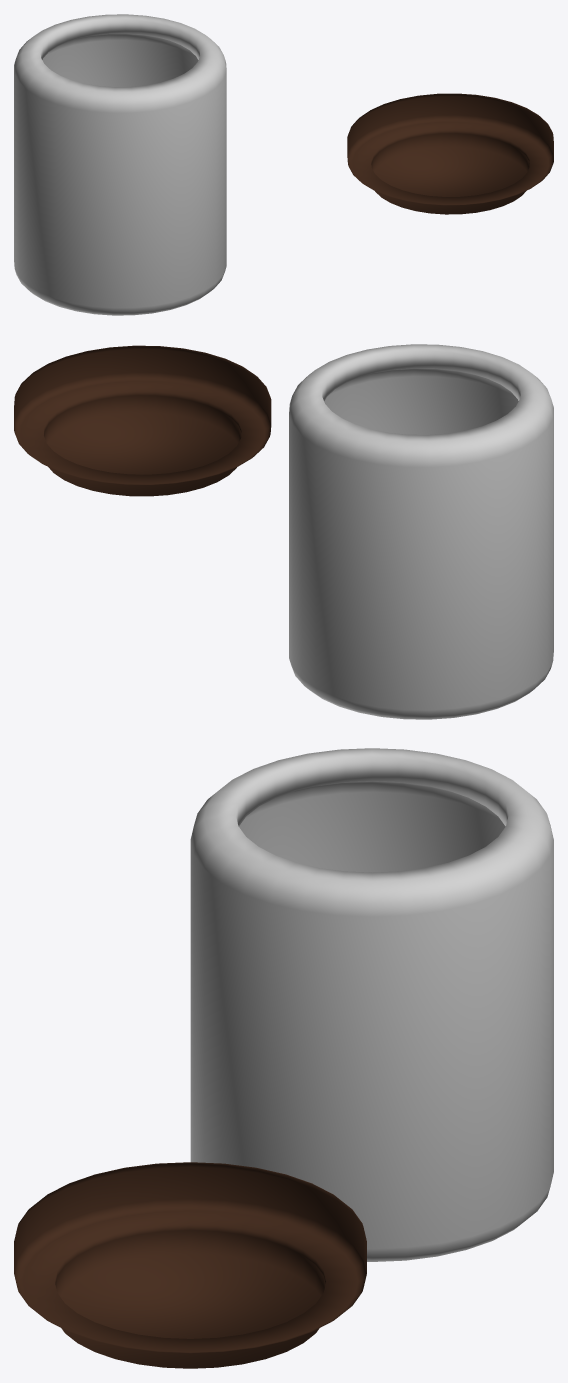
Rendered from jar.obj.
3 renders of one model, top to bottom at view 1: azimuth 30°, elevation 25°; view 2: azimuth 150°, elevation 25°; view 3: azimuth 270°, elevation 25°, orthographic. The views are drawn at different scales.
Parts seen in each view (by area): view 1: Jar.001, Jar_Lid.001; view 2: Jar.001, Jar_Lid.001; view 3: Jar.001, Jar_Lid.001.
Part boxes in pixels (bbox=[...]): Jar.001: bbox=[14, 14, 226, 315]; Jar_Lid.001: bbox=[347, 93, 553, 214]; Jar.001: bbox=[289, 344, 553, 719]; Jar_Lid.001: bbox=[14, 345, 271, 496]; Jar.001: bbox=[190, 748, 553, 1261]; Jar_Lid.001: bbox=[14, 1162, 366, 1368].
Bounding box in the file's own units: 4.97 × 2.3 × 2.97.
